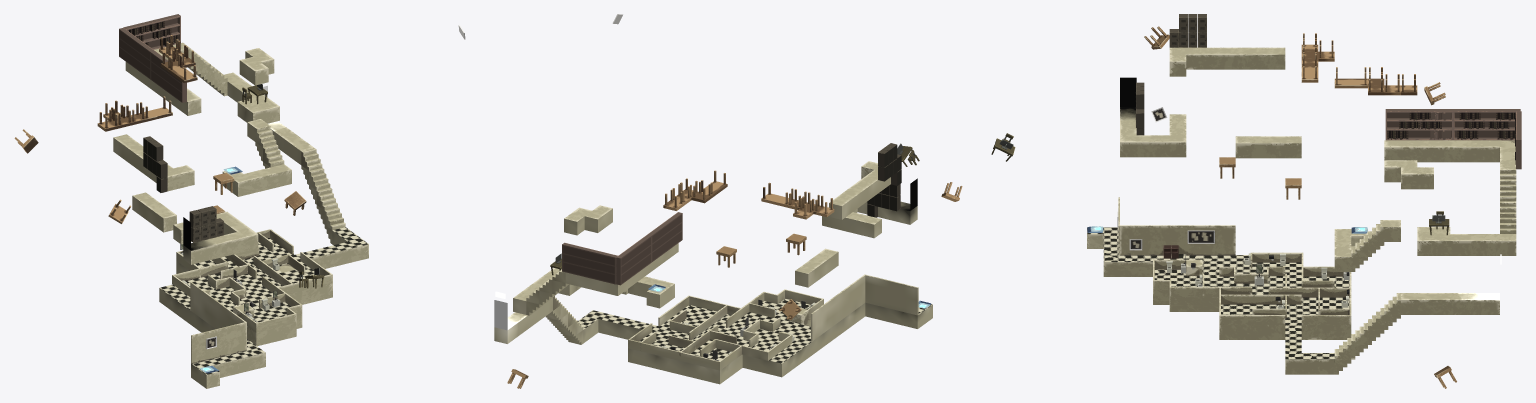
The model's file is Level3_Static.fbx.
3 renders of one model, left to right at view 1: azimuth 30°, elevation 25°; view 2: azimuth 150°, elevation 25°; view 3: azimuth 270°, elevation 25°, orthographic. The views are drawn at different scales.
Parts seen in each view (by area): view 1: Level3_ForSP:BigStaticPiece, Level3_ForSP:pCube94, Level3_ForSP:pCube96, Level3_ForSP:pCube95, Level3_ForSP:Bookshelf2, Level3_ForSP:Bookshelf3, Level3_ForSP:Bookshelf; view 2: Level3_ForSP:BigStaticPiece, Level3_ForSP:Bookshelf, Level3_ForSP:pCube94, Level3_ForSP:pCube96, Level3_ForSP:Bookshelf2, Level3_ForSP:pCube95, Level3_ForSP:Bookshelf3; view 3: Level3_ForSP:BigStaticPiece, Level3_ForSP:Bookshelf3, Level3_ForSP:pCube95, Level3_ForSP:Bookshelf2, Level3_ForSP:pCube96, Level3_ForSP:pCube94, Level3_ForSP:Entrance.
Boxes of the visible parts, box(x1,y1,x2,y2) form: Level3_ForSP:BigStaticPiece: box(113, 42, 368, 388); Level3_ForSP:pCube94: box(97, 96, 172, 131); Level3_ForSP:pCube96: box(14, 129, 306, 223); Level3_ForSP:pCube95: box(159, 35, 197, 83); Level3_ForSP:Bookshelf2: box(119, 27, 154, 79); Level3_ForSP:Bookshelf3: box(150, 51, 186, 102); Level3_ForSP:Bookshelf: box(123, 14, 180, 49); Level3_ForSP:BigStaticPiece: box(494, 161, 932, 384); Level3_ForSP:Bookshelf: box(562, 242, 617, 284); Level3_ForSP:pCube94: box(761, 182, 834, 219); Level3_ForSP:pCube96: box(507, 182, 962, 388); Level3_ForSP:Bookshelf2: box(616, 234, 651, 285); Level3_ForSP:pCube95: box(663, 170, 727, 210); Level3_ForSP:Bookshelf3: box(647, 212, 682, 262); Level3_ForSP:BigStaticPiece: box(1087, 47, 1516, 374); Level3_ForSP:Bookshelf3: box(1385, 109, 1453, 140); Level3_ForSP:pCube95: box(1334, 67, 1417, 95); Level3_ForSP:Bookshelf2: box(1453, 109, 1520, 140); Level3_ForSP:pCube96: box(1144, 26, 1456, 388); Level3_ForSP:pCube94: box(1301, 33, 1334, 82); Level3_ForSP:Entrance: box(1120, 77, 1136, 107).
Bounding box in the file's own units: 26.28 × 19.89 × 32.11.
Materials: 18 (16 with a texture image).
